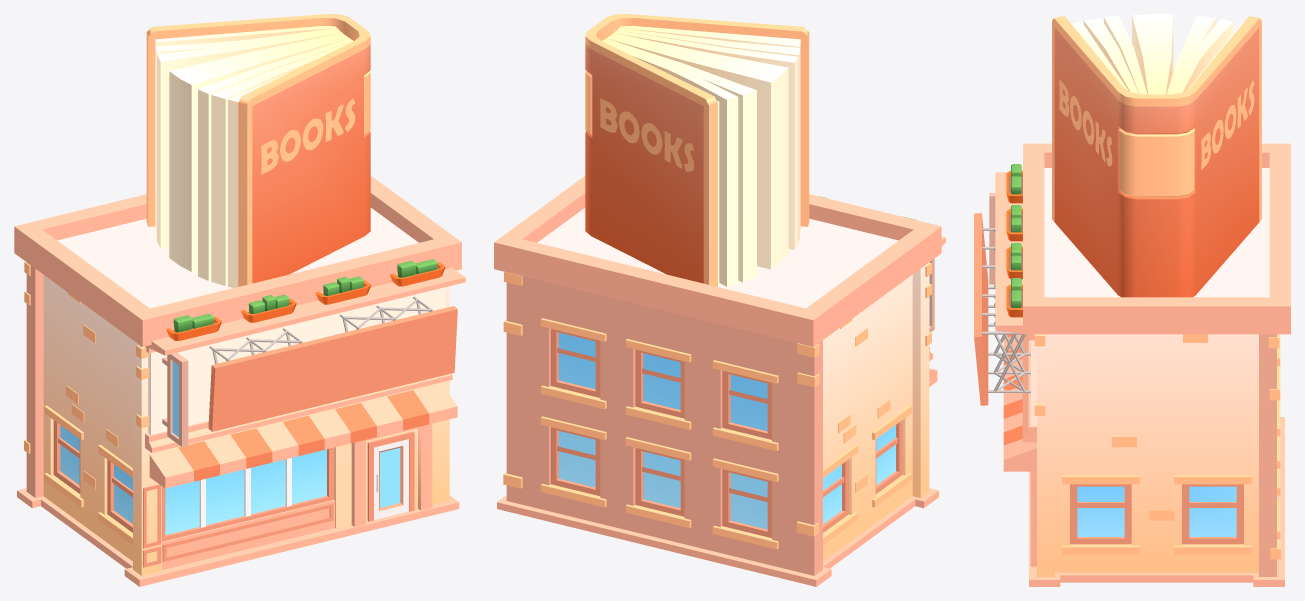
File: city2-building-service-09.glb
The picture shows the model from 3 angles, left to right: view 1: azimuth 30°, elevation 25°; view 2: azimuth 150°, elevation 25°; view 3: azimuth 270°, elevation 25°; orthographic projection. The views are drawn at different scales.
Parts seen in each view (by area): view 1: Building_Service_09; view 2: Building_Service_09; view 3: Building_Service_09.
Part boxes in pixels (x1,y1,x2,y2): Building_Service_09: (14,14,465,586); Building_Service_09: (494,14,945,586); Building_Service_09: (974,14,1290,586).
Bounding box in the file's own units: 9.86 × 13.24 × 8.11.
1 material, 1 textured.
